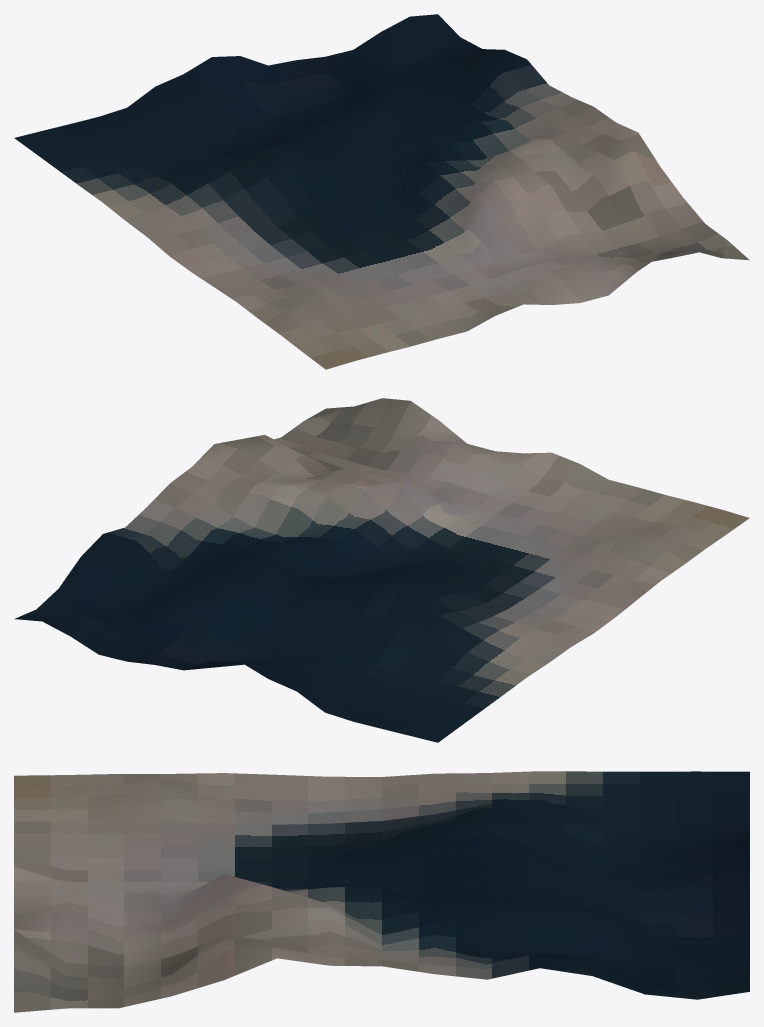
Rendered from chaiten.gltf.
The picture shows the model from 3 angles, top to bottom: view 1: azimuth 30°, elevation 25°; view 2: azimuth 150°, elevation 25°; view 3: azimuth 270°, elevation 25°; orthographic projection. The views are drawn at different scales.
Visible parts, largest first — view 1: TerrainNode.001; view 2: TerrainNode.001; view 3: TerrainNode.001.
Boxes of the visible parts, box(x1,y1,x2,y2) form: TerrainNode.001: box(14, 14, 749, 369); TerrainNode.001: box(15, 398, 749, 742); TerrainNode.001: box(14, 771, 749, 1012).
Size of the model in its own units: 7.58 by 0.913 by 9.66.
1 material, 1 textured.
